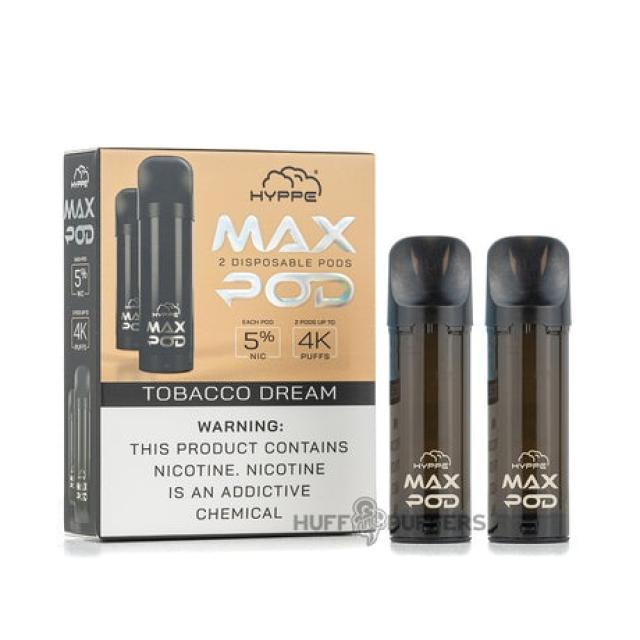Hazard: (62, 146, 378, 543)
